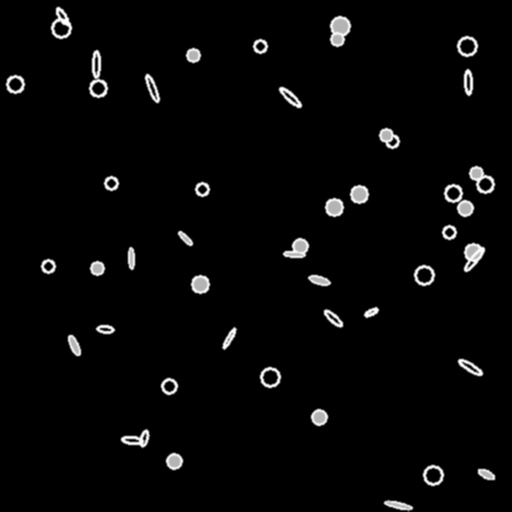pseudomonas: (278, 85, 302, 109), (463, 246, 485, 272), (457, 357, 483, 377), (144, 74, 160, 102), (323, 308, 343, 328), (221, 327, 237, 349), (67, 334, 81, 356), (308, 274, 330, 286), (385, 500, 411, 510), (177, 230, 193, 246), (477, 467, 495, 481), (55, 7, 69, 25), (121, 435, 143, 445), (363, 306, 379, 318), (139, 429, 149, 447), (93, 50, 99, 78), (465, 69, 471, 95), (97, 325, 113, 333), (128, 248, 134, 268), (284, 251, 304, 257)
synechocystis: (424, 466, 442, 484), (331, 17, 349, 35), (415, 266, 433, 284), (458, 37, 476, 55), (261, 368, 279, 386), (52, 19, 70, 37), (192, 276, 208, 292), (326, 199, 342, 215), (445, 185, 461, 201), (477, 176, 493, 192), (465, 244, 481, 260), (351, 186, 367, 202), (7, 76, 23, 92), (90, 80, 106, 96), (162, 379, 176, 393), (458, 201, 472, 215), (312, 410, 326, 424), (167, 454, 181, 468), (293, 239, 307, 253), (187, 49, 199, 61), (386, 135, 398, 147), (380, 129, 392, 141), (91, 262, 103, 274), (254, 40, 266, 52), (196, 183, 208, 195), (42, 260, 54, 272), (105, 177, 117, 189), (331, 33, 343, 45), (443, 226, 455, 238), (470, 167, 482, 179)
